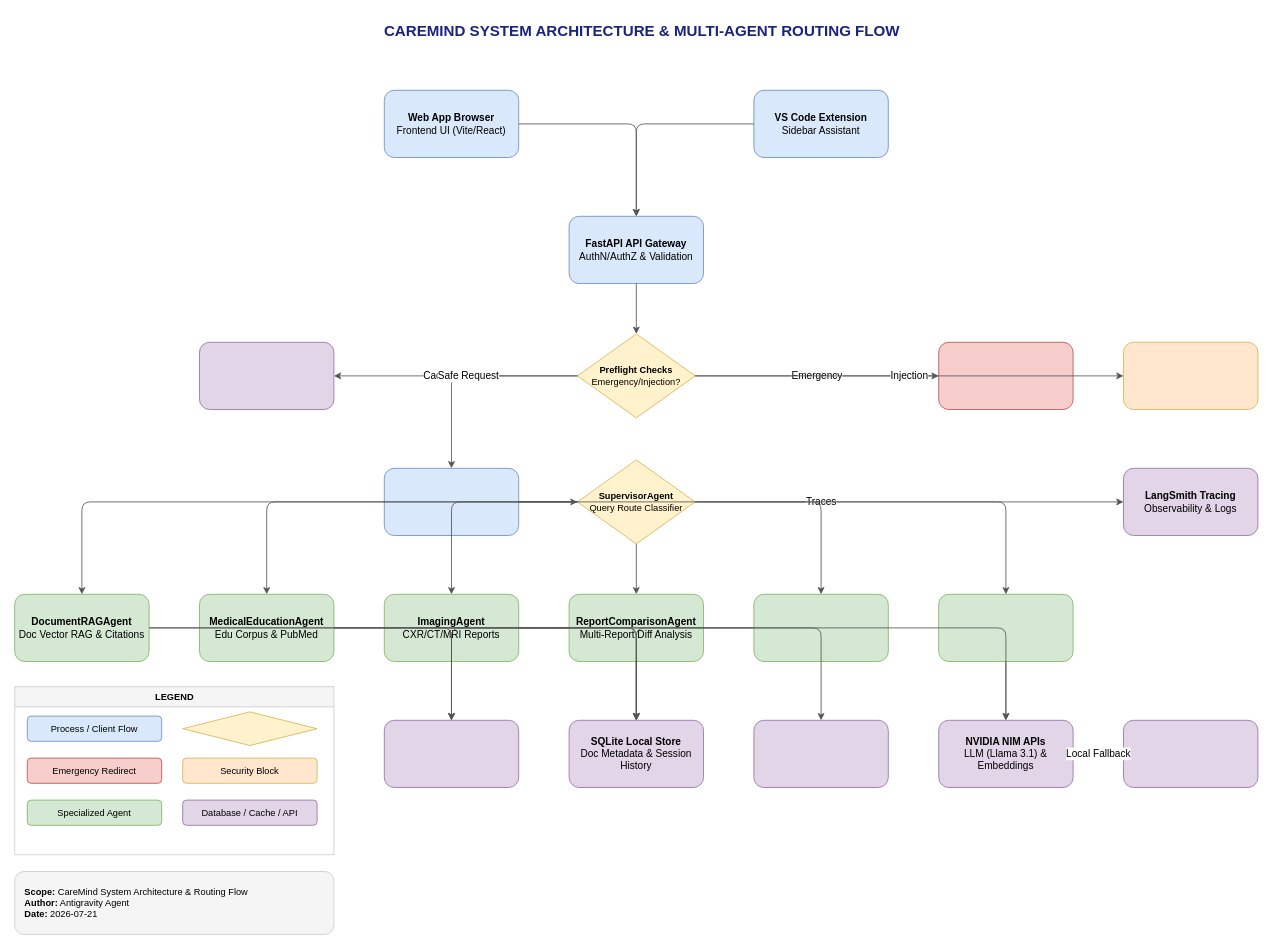
Some shapes in this 1273 by 949 pixel diagram are drawn without their labels. The shapes that lost their labels are listed below. From the top down, each one's box as (x1, y1, x2, y2) in pixels, then its label:
(199, 341, 334, 410): Redis Semantic Cache Exact & Semantic Responses
(938, 341, 1073, 410): Emergency Redirect Direct Warning Output
(1123, 341, 1258, 410): Prompt Injection Security Block
(383, 467, 519, 536): CareMindAgent StateGraph Orchestrator
(753, 593, 888, 662): ClarificationAgent Voice/Ambiguity Context
(938, 593, 1073, 662): DirectResponseAgent Product Help & Greeting
(182, 711, 317, 746): Decision / Router
(383, 719, 519, 788): Supabase Postgres pgvector & Schema Storage
(753, 719, 888, 788): NCBI PubMed API External Literature RAG
(1123, 719, 1258, 788): Ollama Local Service Local Embedding/LLM Fallback
